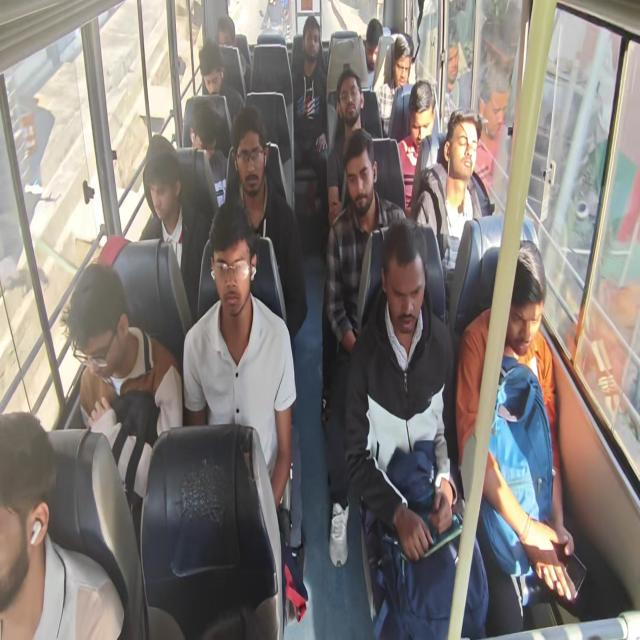person: (2, 382, 52, 614), (198, 190, 260, 323), (60, 265, 137, 372), (378, 212, 432, 338), (499, 236, 547, 364), (225, 108, 279, 198), (339, 126, 385, 222), (136, 142, 192, 220), (444, 106, 485, 195), (404, 69, 436, 156), (182, 100, 222, 168), (196, 36, 230, 106), (388, 25, 414, 92), (362, 14, 392, 70), (302, 12, 328, 71), (338, 68, 365, 124), (214, 12, 240, 51)
